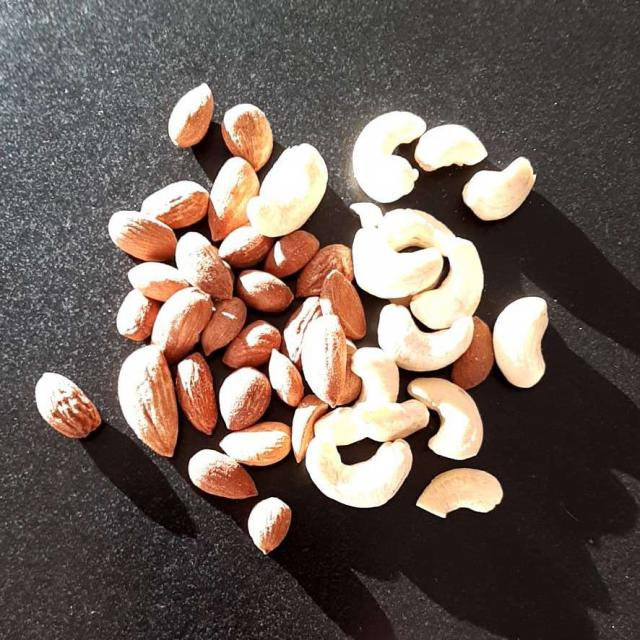mixed-nuts: (42, 86, 548, 552)
